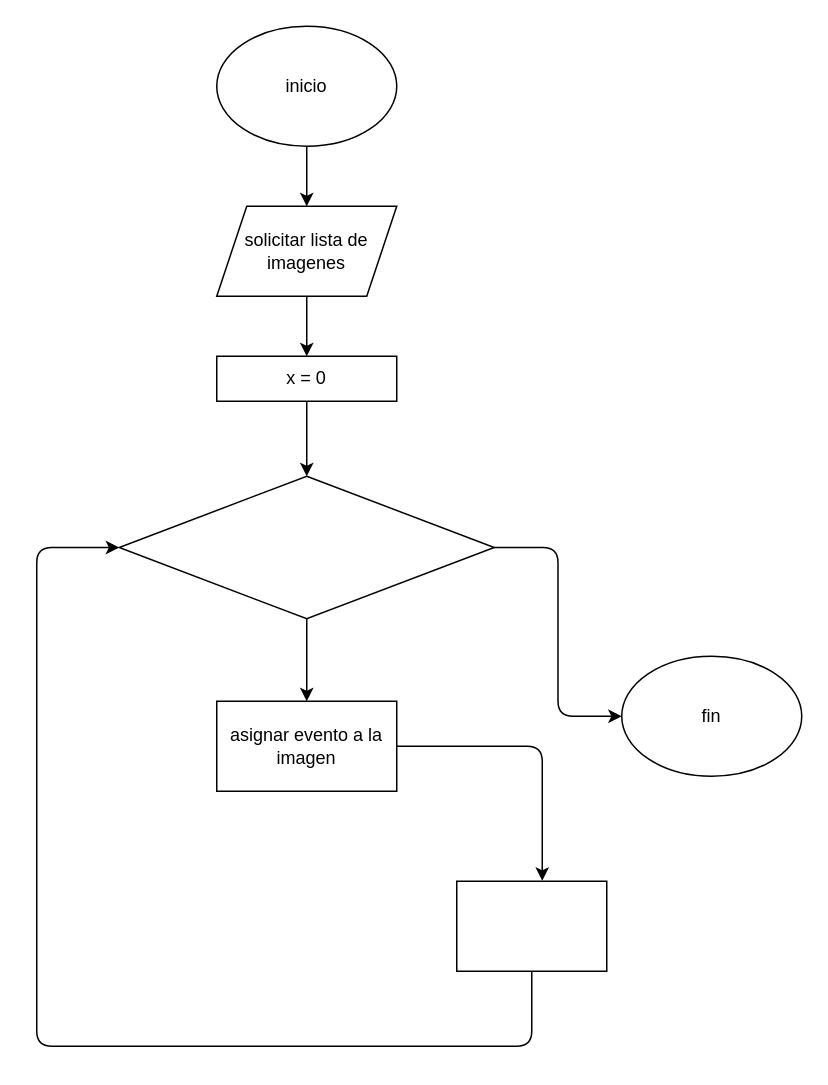
This 828x1085 diagram has some shape labels left out. Each missing label, with the centre of its shape:
"x < cantidad de imagenes" goes at (x=306, y=547).
"x++" goes at (x=531, y=925).
